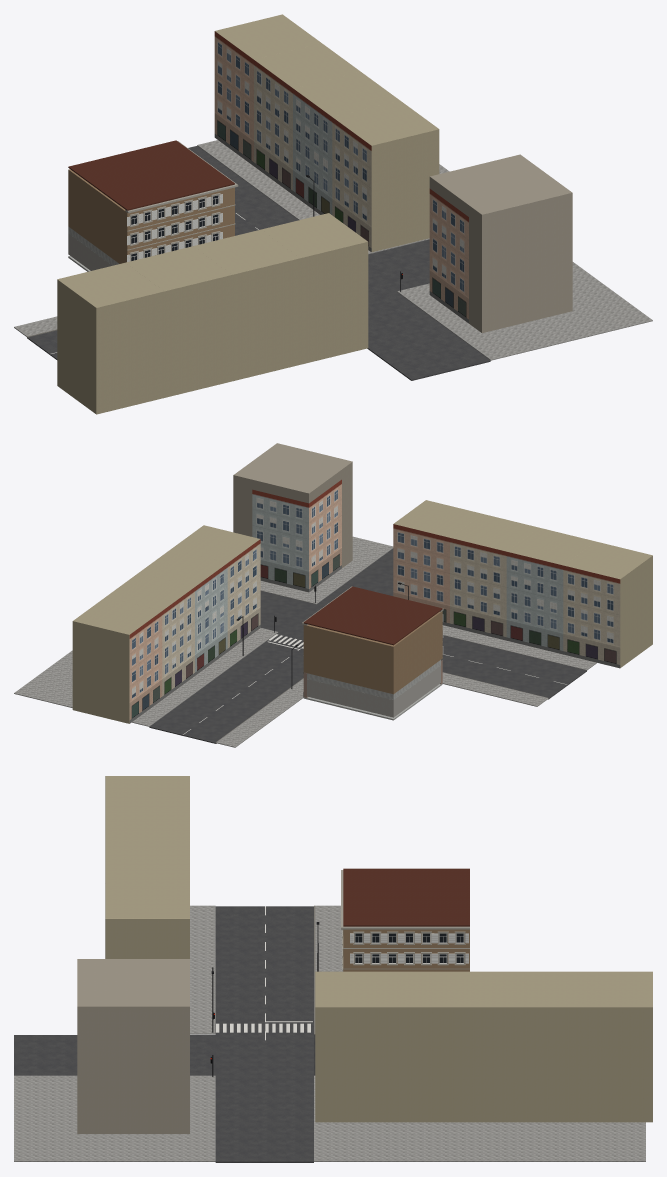
The model's file is laden.glb.
3 views of the same model, one above another, from view 1: azimuth 30°, elevation 25°; view 2: azimuth 150°, elevation 25°; view 3: azimuth 270°, elevation 25° (orthographic). The views are drawn at different scales.
Parts seen in each view (by area): view 1: strasse|putz_gelb_hell|1, strasse|putz_beige|0, strasse|gehweg|0, haus|dach|0, strasse|asphalt|1, haus|putz_ocker|0, strasse|asphalt|0, strasse|haus_c|0, strasse|haus_c|2, strasse|haus_b|2, strasse|haus_a|1, strasse|haus_a|2 (+6 smaller); view 2: strasse|putz_gelb_hell|1, strasse|asphalt|0, strasse|gehweg|0, strasse|haus_a|2, strasse|haus_b|2, strasse|haus_c|2, haus|putz_ocker|0, strasse|putz_beige|0, strasse|haus_b|1, strasse|haus_a|0, haus|dach|0, strasse|haus_c|0 (+5 smaller); view 3: strasse|putz_gelb_hell|1, strasse|gehweg|0, strasse|asphalt|0, strasse|putz_beige|0, haus|dach|0, strasse|asphalt|1, haus|putz_ocker|0, haus|putz_weiss|0, haus|glas_dunkel|0, haus|klappladen|1, strasse|markierung|0, haus|putz_weiss|1 (+1 smaller).
Boxes of the visible parts, <box> form: strasse|putz_gelb_hell|1: <box>57,14,439,414</box>; strasse|putz_beige|0: <box>429,154,572,333</box>; strasse|gehweg|0: <box>14,140,652,360</box>; haus|dach|0: <box>68,140,234,210</box>; strasse|asphalt|1: <box>367,292,490,380</box>; haus|putz_ocker|0: <box>68,169,234,263</box>; strasse|asphalt|0: <box>27,146,429,359</box>; strasse|haus_c|0: <box>214,31,253,165</box>; strasse|haus_c|2: <box>429,188,468,323</box>; strasse|haus_b|2: <box>293,88,332,214</box>; strasse|haus_a|1: <box>254,60,292,194</box>; strasse|haus_a|2: <box>332,117,371,251</box>; strasse|putz_gelb_hell|1: <box>72,500,652,723</box>; strasse|asphalt|0: <box>149,591,586,743</box>; strasse|gehweg|0: <box>14,536,596,747</box>; strasse|haus_a|2: <box>227,539,620,668</box>; strasse|haus_b|2: <box>195,489,308,675</box>; strasse|haus_c|2: <box>309,479,449,626</box>; haus|putz_ocker|0: <box>303,611,442,694</box>; strasse|putz_beige|0: <box>233,443,352,567</box>; strasse|haus_b|1: <box>506,552,563,654</box>; strasse|haus_a|0: <box>450,538,506,640</box>; haus|dach|0: <box>303,586,442,645</box>; strasse|haus_c|0: <box>129,611,162,723</box>; strasse|putz_gelb_hell|1: <box>105,776,652,1122</box>; strasse|gehweg|0: <box>14,905,645,1161</box>; strasse|asphalt|0: <box>215,906,315,1162</box>; strasse|putz_beige|0: <box>77,959,189,1133</box>; haus|dach|0: <box>343,868,469,926</box>; strasse|asphalt|1: <box>14,1035,313,1162</box>; haus|putz_ocker|0: <box>343,929,469,971</box>; haus|putz_weiss|0: <box>341,870,469,969</box>; haus|glas_dunkel|0: <box>355,933,463,962</box>; haus|klappladen|1: <box>350,933,468,963</box>; strasse|markierung|0: <box>216,906,312,1040</box>; haus|putz_weiss|1: <box>342,929,465,965</box>.
Bounding box in the file's own units: 90.8 × 20.32 × 90.8.
159 materials, 88 textured.
